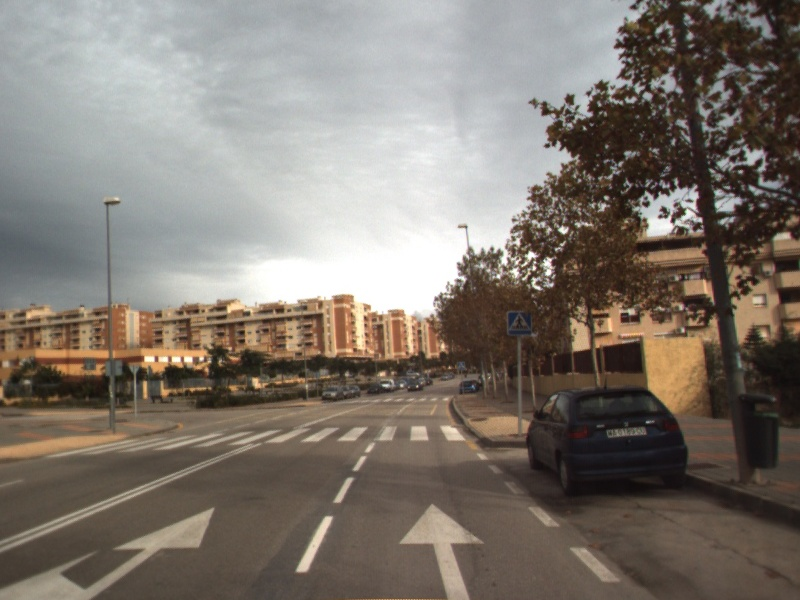STRAIGHT: (396, 499, 487, 600)
STRAIGHT_LEFT: (1, 503, 217, 600)
